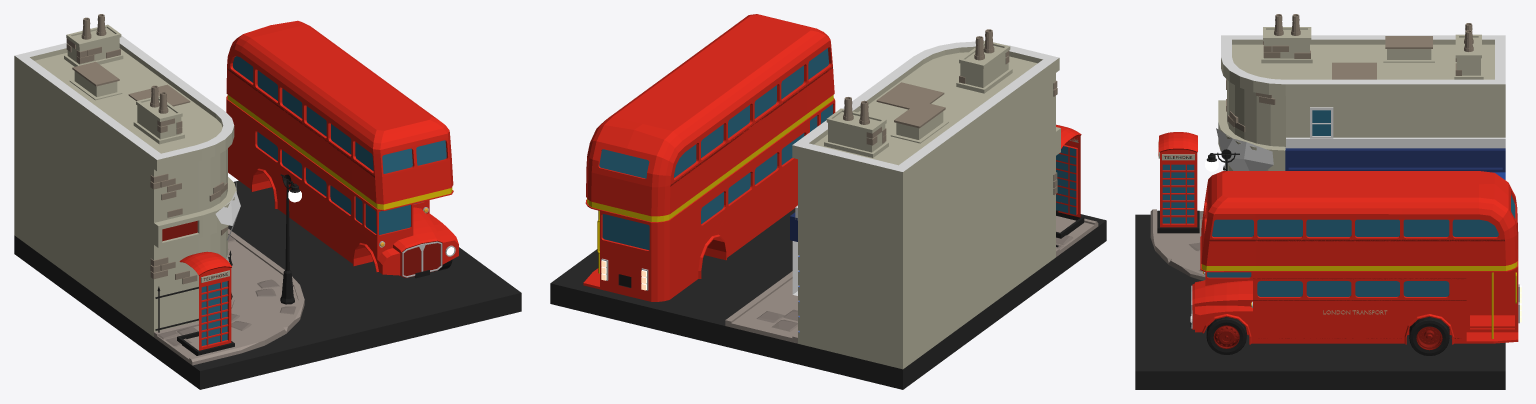
3 renders of one model, left to right at view 1: azimuth 30°, elevation 25°; view 2: azimuth 150°, elevation 25°; view 3: azimuth 270°, elevation 25°, orthographic. The views are drawn at different scales.
Visible parts, largest first — view 1: Building, Bus, Road, Pavement, Plane.041, Plane.007, Plane.036, Plane.039, Plane.038, Tile.015, Lamp, Plane.037 (+1 smaller); view 2: Building, Bus, Road, Pavement, Plane.039, Plane.036, Plane.041, Plane.038, Plane.037, Tile.015; view 3: Bus, Building, Road, Plane.007, Plane.042, Plane.012, Circle, Pavement, Plane.036, Plane.038, Leaves, Plane.039 (+5 smaller).
Part boxes in pixels (<box>): Building: <box>14,35,234,336</box>; Bus: <box>226,20,458,277</box>; Road: <box>14,180,521,389</box>; Pavement: <box>154,229,304,365</box>; Plane.041: <box>199,267,231,350</box>; Plane.007: <box>154,177,236,247</box>; Plane.036: <box>133,96,184,144</box>; Plane.039: <box>64,24,123,66</box>; Plane.038: <box>69,61,122,100</box>; Tile.015: <box>177,251,234,355</box>; Lamp: <box>280,174,294,304</box>; Plane.037: <box>128,84,190,106</box>; Building: <box>792,41,1059,369</box>; Bus: <box>583,14,835,301</box>; Road: <box>550,208,1106,389</box>; Pavement: <box>725,216,1098,343</box>; Plane.039: <box>824,108,888,157</box>; Plane.036: <box>956,41,1012,93</box>; Plane.041: <box>1056,135,1080,217</box>; Plane.038: <box>890,101,948,143</box>; Plane.037: <box>876,82,944,109</box>; Tile.015: <box>1056,124,1084,238</box>; Bus: <box>1192,171,1518,344</box>; Building: <box>1221,35,1505,179</box>; Road: <box>1135,214,1505,389</box>; Plane.007: <box>1218,100,1505,172</box>; Plane.042: <box>1160,149,1197,227</box>; Plane.012: <box>1286,137,1505,148</box>; Circle: <box>1206,316,1449,355</box>; Pavement: <box>1150,209,1205,280</box>; Plane.036: <box>1261,27,1312,63</box>; Plane.038: <box>1383,36,1434,62</box>; Leaves: <box>1216,128,1273,170</box>; Plane.039: <box>1454,34,1483,79</box>.
Size of what is drawn, in the model's own units: 8.02 by 6.55 by 8.34.
